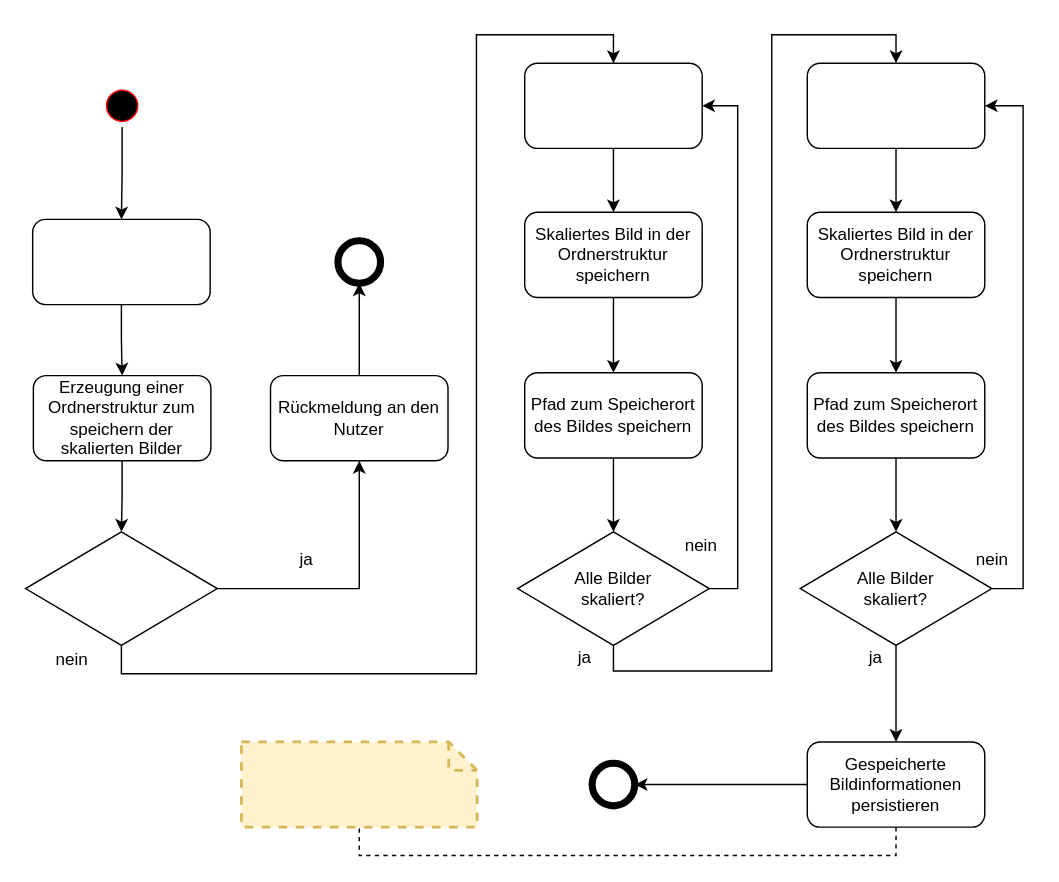
Image size: 1059x882. Some labels were removed from this diagram. Here are the shapes that lost their labels. From the top down, the centre of each, then its label:
At [612,105]: "Vollskalierung aller Bilder".
At [895,105]: "Schrittweise Slkalierung aller Bilder".
At [120,261]: "Pfad zum Ressourcen- verzeichnis auswählen".
At [120,587]: "Bilder wurden bereits skaliert?".
At [358,784]: "Siehe dazu Abschnitt 5.3".
